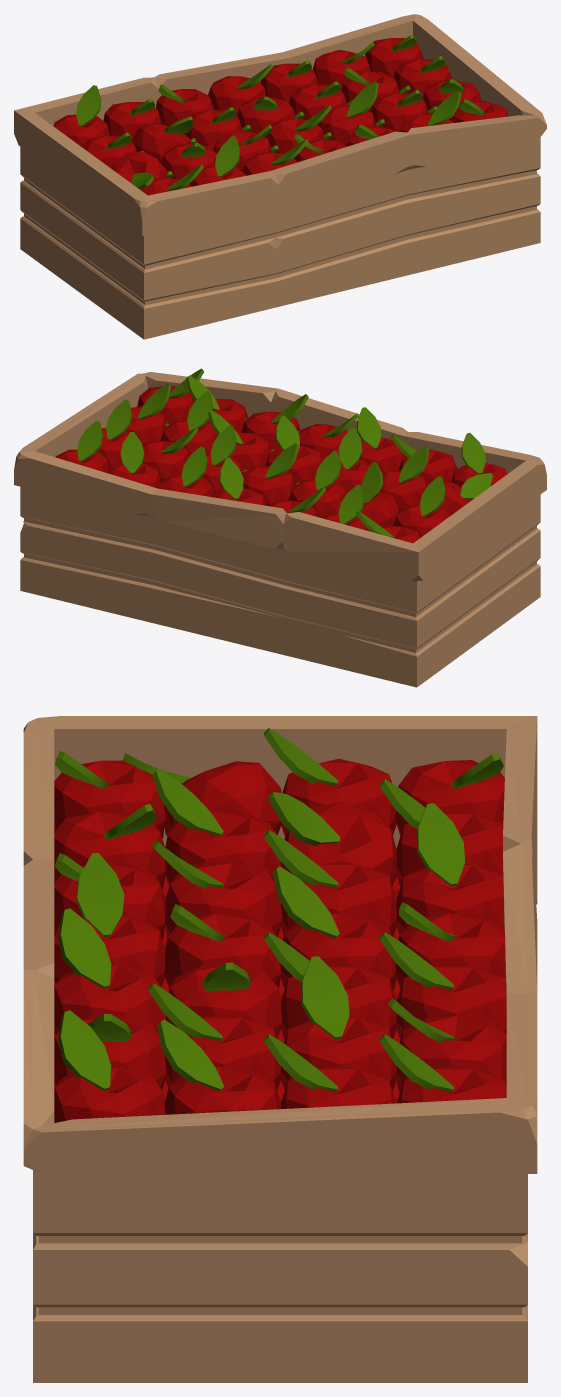
File: 003 Apple_Box.FBX
The picture shows the model from 3 angles, top to bottom: view 1: azimuth 30°, elevation 25°; view 2: azimuth 150°, elevation 25°; view 3: azimuth 270°, elevation 25°; orthographic projection. The views are drawn at different scales.
Visible parts, largest first — view 1: Box379, GeoSphere348, GeoSphere330, GeoSphere333, GeoSphere338, GeoSphere332, GeoSphere349, GeoSphere336, GeoSphere334, GeoSphere331, GeoSphere335, GeoSphere343 (+17 smaller); view 2: Box379, GeoSphere340, GeoSphere339, GeoSphere345, GeoSphere349, GeoSphere353, GeoSphere337, GeoSphere347, GeoSphere338, GeoSphere350, GeoSphere342, GeoSphere335 (+17 smaller); view 3: Box379, GeoSphere332, GeoSphere355, GeoSphere342, GeoSphere357, GeoSphere345, GeoSphere340, GeoSphere338, GeoSphere334, GeoSphere350, GeoSphere346, GeoSphere354 (+17 smaller).
Part boxes in pixels (left/top/right/bottom): Box379: left=14, top=14, right=546, bottom=339; GeoSphere348: left=318, top=81, right=378, bottom=145; GeoSphere330: left=53, top=85, right=109, bottom=146; GeoSphere333: left=208, top=64, right=273, bottom=116; GeoSphere338: left=132, top=116, right=192, bottom=162; GeoSphere332: left=156, top=84, right=214, bottom=126; GeoSphere349: left=370, top=90, right=428, bottom=131; GeoSphere336: left=365, top=35, right=423, bottom=77; GeoSphere334: left=260, top=60, right=318, bottom=103; GeoSphere331: left=103, top=98, right=162, bottom=141; GeoSphere335: left=312, top=42, right=374, bottom=90; GeoSphere343: left=394, top=56, right=451, bottom=98; Box379: left=14, top=372, right=546, bottom=687; GeoSphere340: left=241, top=443, right=298, bottom=505; GeoSphere339: left=288, top=450, right=346, bottom=517; GeoSphere345: left=379, top=445, right=428, bottom=510; GeoSphere349: left=160, top=391, right=217, bottom=455; GeoSphere353: left=357, top=407, right=404, bottom=473; GeoSphere337: left=393, top=476, right=449, bottom=537; GeoSphere347: left=265, top=415, right=322, bottom=484; GeoSphere338: left=361, top=462, right=399, bottom=527; GeoSphere350: left=126, top=383, right=170, bottom=444; GeoSphere342: left=142, top=427, right=198, bottom=480; GeoSphere335: left=106, top=432, right=161, bottom=488; Box379: left=23, top=716, right=537, bottom=1382; GeoSphere332: left=396, top=803, right=504, bottom=934; GeoSphere355: left=54, top=908, right=165, bottom=1035; GeoSphere342: left=280, top=956, right=396, bottom=1090; GeoSphere357: left=54, top=1010, right=165, bottom=1122; GeoSphere345: left=152, top=769, right=281, bottom=886; GeoSphere340: left=272, top=866, right=396, bottom=991; GeoSphere338: left=268, top=792, right=396, bottom=885; GeoSphere334: left=379, top=932, right=506, bottom=1039; GeoSphere350: left=157, top=1019, right=280, bottom=1114; GeoSphere346: left=152, top=840, right=282, bottom=937; GeoSphere354: left=54, top=853, right=165, bottom=986.
Size of the model in its own units: 101 by 36.56 by 55.39.
